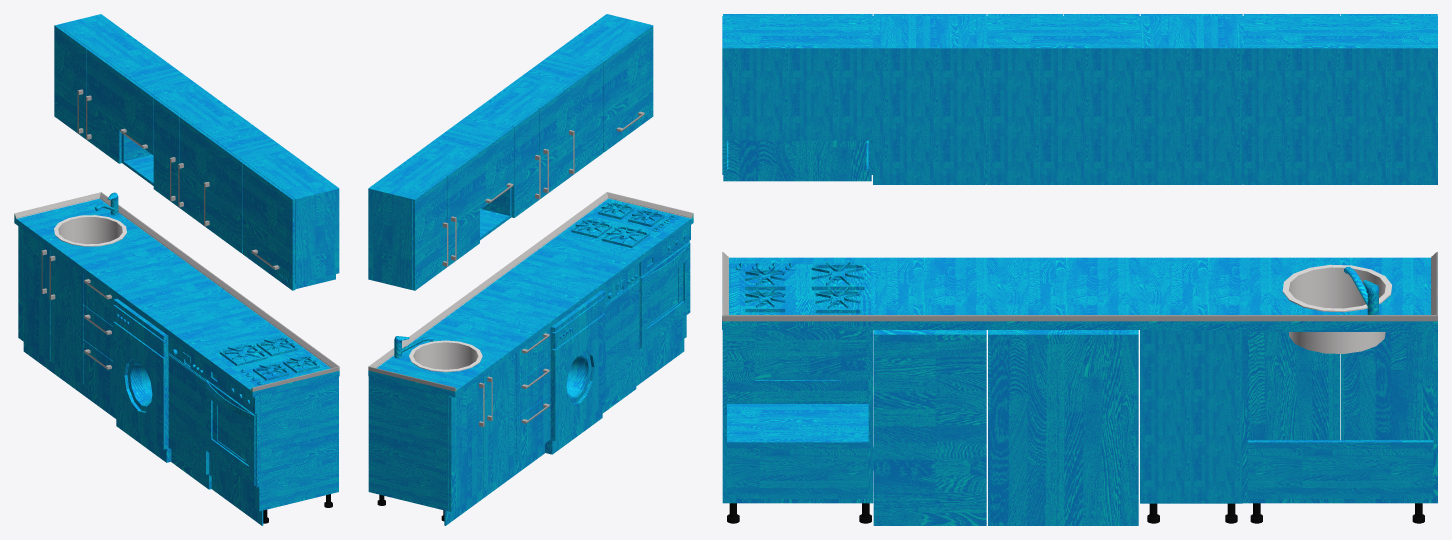
3 renders of one model, left to right at view 1: azimuth 30°, elevation 25°; view 2: azimuth 150°, elevation 25°; view 3: azimuth 270°, elevation 25°, orthographic. The views are drawn at different scales.
Visible parts, largest first — view 1: material-EGGER (×19), material-W (×9), material-Metal (×6), material-Paint (×4), material-Mtl_Aluminium (×3), material-Mtl_Chrome (×2), material-Glass, material-LS_GARNITURA; view 2: material-EGGER (×19), material-W (×8), material-Metal (×6), material-Paint (×4), material-Mtl_Aluminium (×3), material-Mtl_Chrome (×2), material-Glass, material-LS_GARNITURA; view 3: material-W (×19), material-EGGER (×4), material-Paint (×5), material-Metal (×3), material-Mtl_Chrome (×2), material-Mtl_Aluminium, material-Glass, material-LS_GARNITURA.
Part boxes in pixels (x1,y1,x2,y2): material-EGGER (×19): (14, 25, 339, 525); material-W (×9): (57, 14, 339, 511); material-Metal (×6): (168, 245, 335, 487); material-Paint (×4): (113, 298, 171, 462); material-Mtl_Aluminium (×3): (14, 192, 339, 391); material-Mtl_Chrome (×2): (54, 215, 126, 246); material-Glass: (218, 405, 245, 460); material-LS_GARNITURA: (99, 192, 339, 368); material-EGGER (×19): (368, 25, 693, 525); material-W (×8): (368, 14, 650, 508); material-Metal (×6): (564, 110, 690, 349); material-Paint (×4): (545, 290, 605, 454); material-Mtl_Aluminium (×3): (368, 192, 693, 391); material-Mtl_Chrome (×2): (409, 340, 482, 372); material-Glass: (650, 268, 677, 322); material-LS_GARNITURA: (369, 192, 607, 368); material-W (×19): (722, 16, 1437, 503); material-EGGER (×4): (722, 257, 1437, 525); material-Paint (×5): (873, 330, 1138, 525); material-Metal (×3): (723, 140, 874, 403); material-Mtl_Chrome (×2): (1282, 264, 1392, 353); material-Mtl_Aluminium: (722, 315, 1437, 321); material-Glass: (755, 330, 840, 380); material-LS_GARNITURA: (722, 315, 1437, 316).
Bounding box in the file's own units: 0.621 × 2.1 × 2.85.
Materials: 6 (1 with a texture image).
